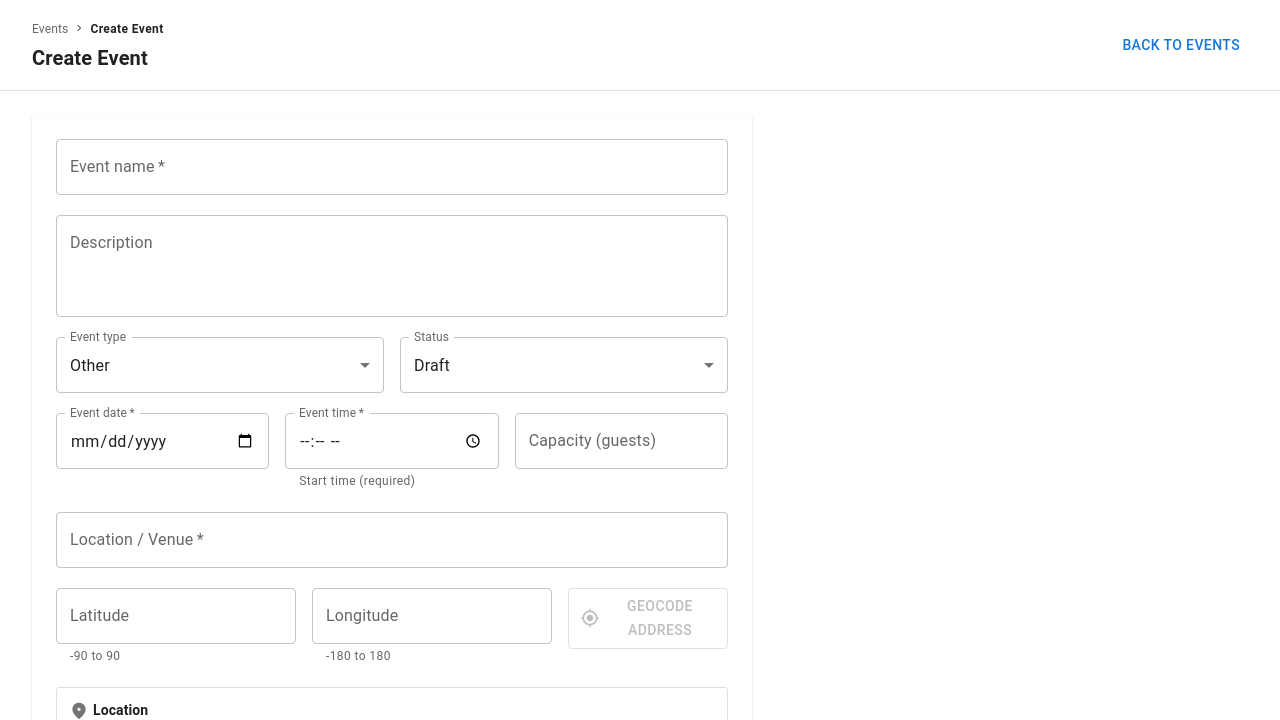
Test case: EventFormPage - Status Picker › should render all 6 event statuses in the status dropdown
The width and height of the screenshot is (1280, 720).
Press the mouse on the dropdown named "Status" at point(432, 365), box x1=414 y1=356 x2=450 y2=374
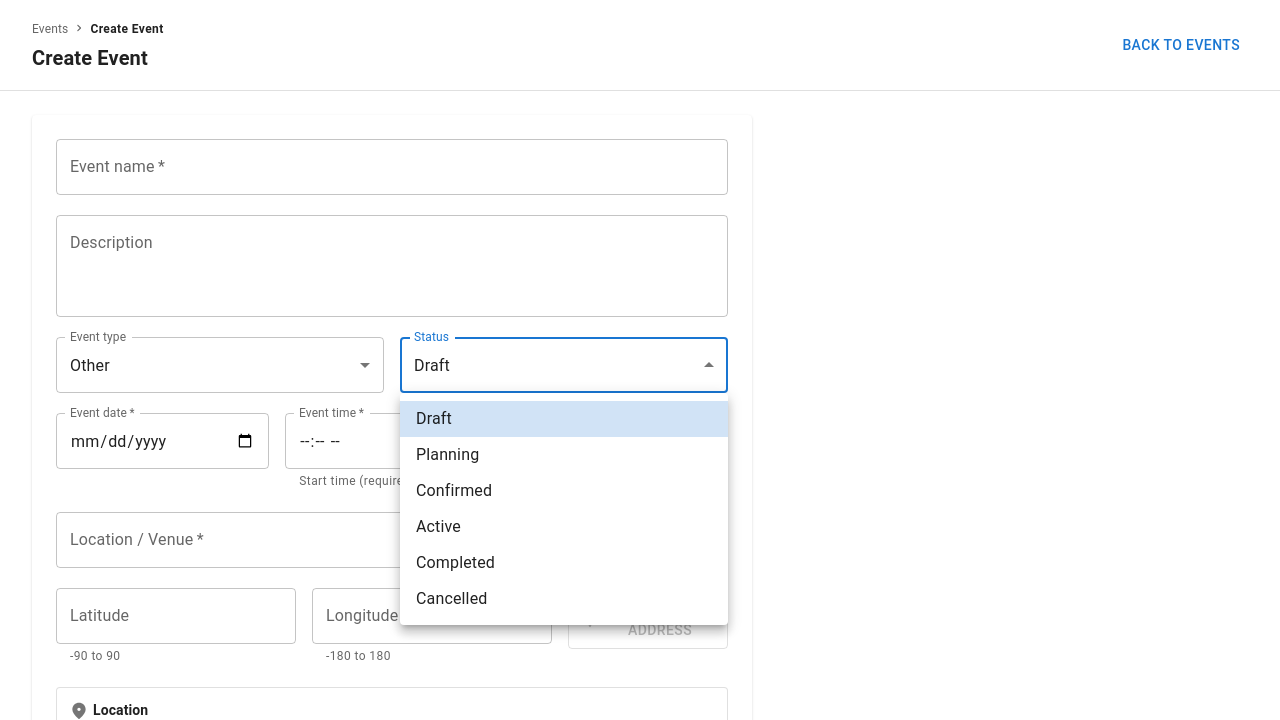
Now the option "Draft" is shown, box x1=400 y1=401 x2=728 y2=437
Now the option "Planning" is shown, box x1=416 y1=445 x2=479 y2=464
Now the option "Confirmed" is shown, box x1=416 y1=481 x2=492 y2=500
